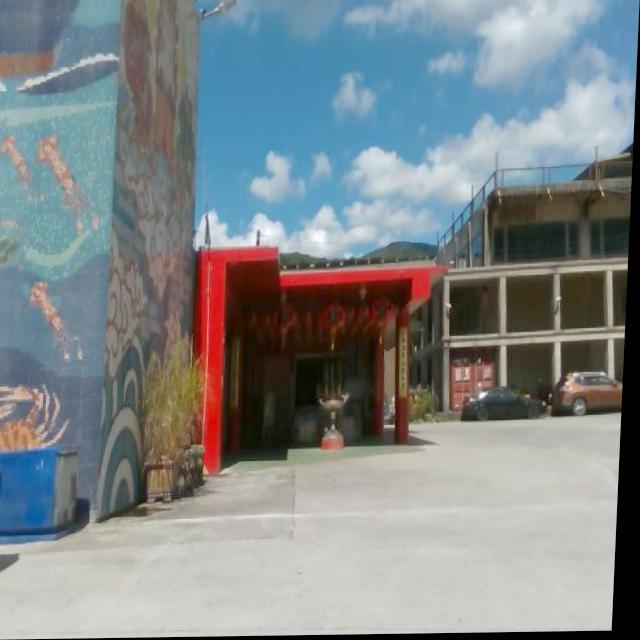pollute: (387, 396, 398, 428)
